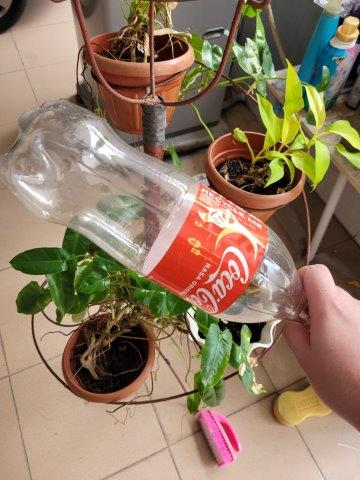botolplastik: (2, 100, 309, 324)
